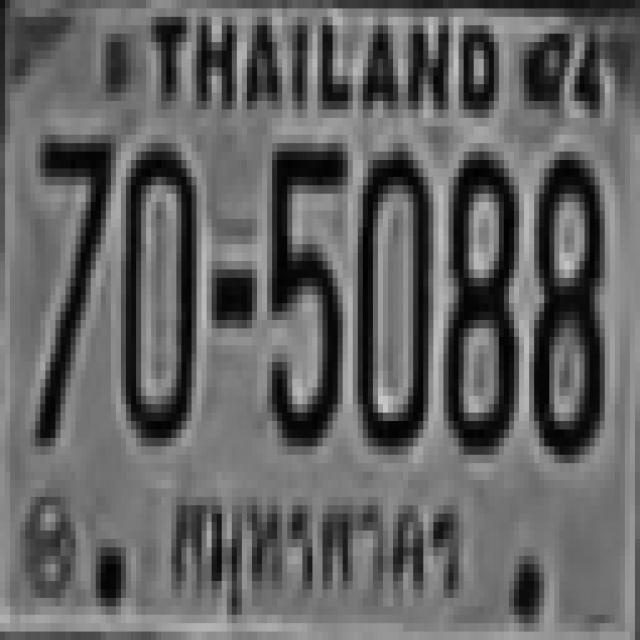0: (118, 135, 194, 438), (353, 143, 428, 446)
5: (267, 135, 343, 438)
7: (30, 126, 111, 438)
8: (438, 143, 514, 446), (529, 143, 600, 455)
SamutSakhon: (165, 471, 476, 635)
